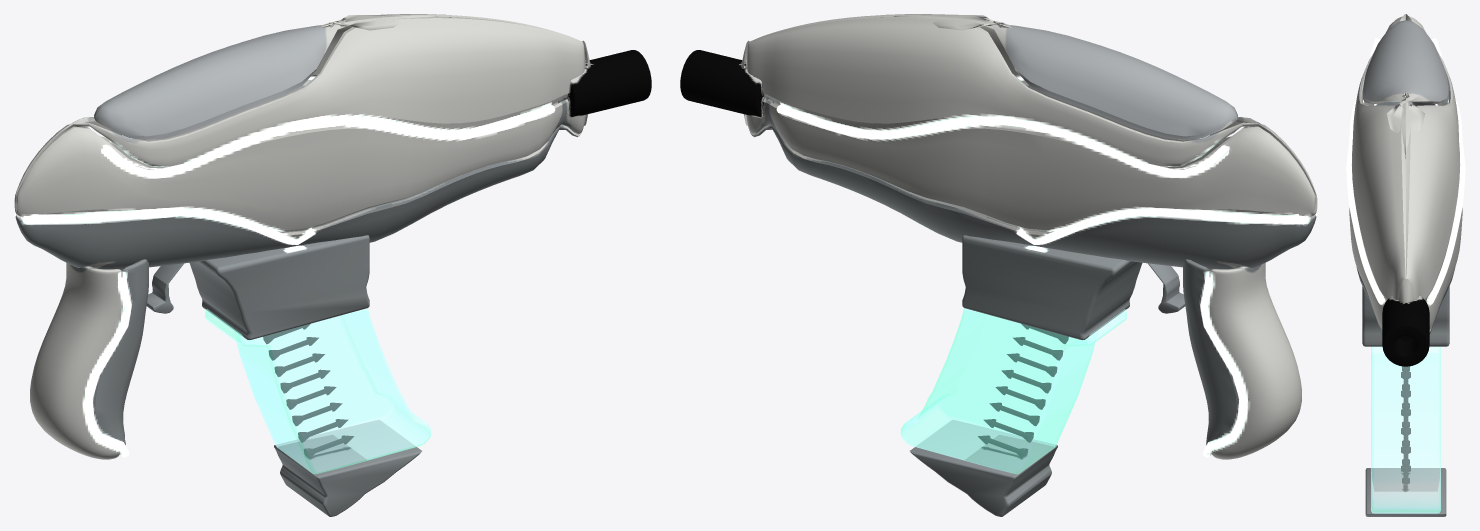
File: pistolet_flechettes_b.glb
3 views of the same model, side by side, from view 1: azimuth 30°, elevation 25°; view 2: azimuth 150°, elevation 25°; view 3: azimuth 270°, elevation 25° (orthographic). The views are drawn at different scales.
Parts seen in each view (by area): view 1: SM_Weapon_FlechettePistol_B_Coque, SM_Weapon_FlechettePistol_B_Verre; view 2: SM_Weapon_FlechettePistol_B_Coque, SM_Weapon_FlechettePistol_B_Verre; view 3: SM_Weapon_FlechettePistol_B_Coque, SM_Weapon_FlechettePistol_B_Verre.
Boxes of the visible parts, x1,y1,x2,y2 form: SM_Weapon_FlechettePistol_B_Coque: (14, 14, 651, 516); SM_Weapon_FlechettePistol_B_Verre: (205, 308, 431, 474); SM_Weapon_FlechettePistol_B_Coque: (680, 14, 1317, 516); SM_Weapon_FlechettePistol_B_Verre: (900, 308, 1126, 474); SM_Weapon_FlechettePistol_B_Coque: (1346, 14, 1465, 516); SM_Weapon_FlechettePistol_B_Verre: (1371, 346, 1440, 513).
Bounding box in the file's own units: 0.2986 × 0.2164 × 0.0547.
2 materials, 1 textured.
